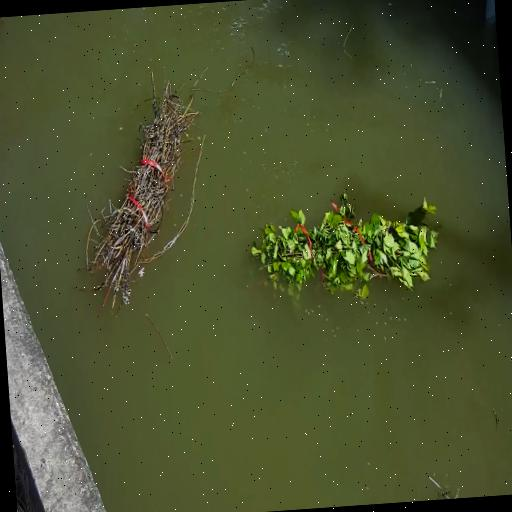twig: (87, 82, 203, 308), (252, 193, 438, 289)
